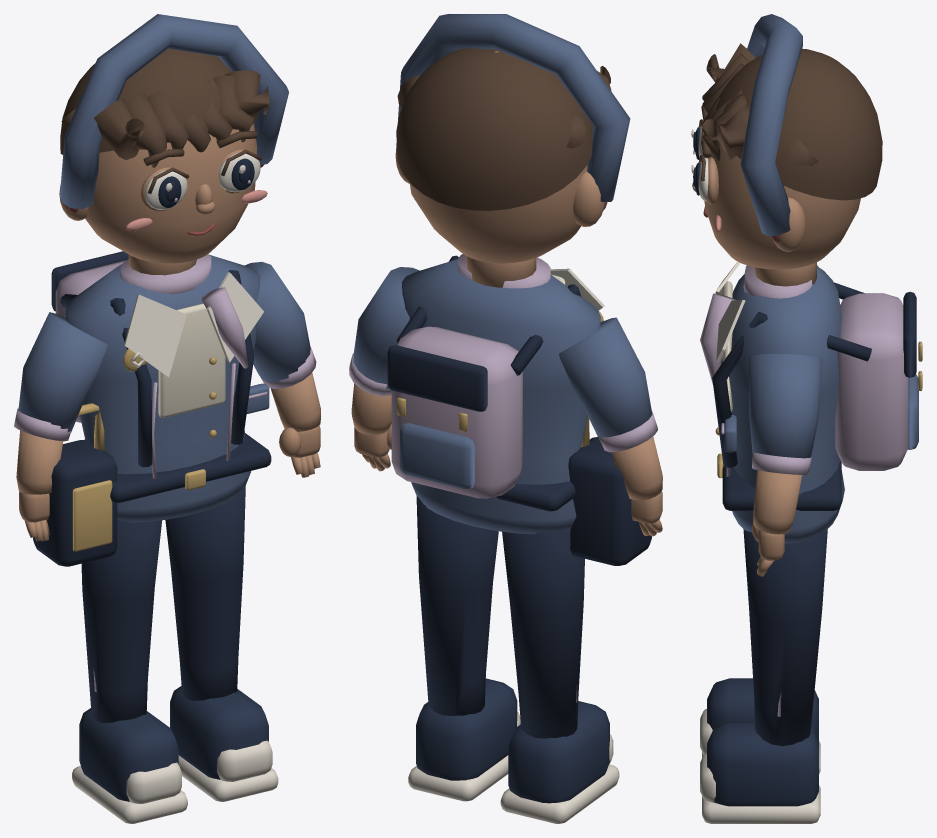
File: npc_graveyard_trainer_1.glb
3 renders of one model, left to right at view 1: azimuth 30°, elevation 25°; view 2: azimuth 150°, elevation 25°; view 3: azimuth 270°, elevation 25°, orthographic. The views are drawn at different scales.
Parts seen in each view (by area): view 1: figure.051; view 2: figure.051; view 3: figure.051.
Part boxes in pixels (<box>): figure.051: <box>14,14,320,823</box>; figure.051: <box>349,14,662,823</box>; figure.051: <box>691,14,922,823</box>.
Size of the model in its own units: 0.6469 by 1.58 by 0.4328.
